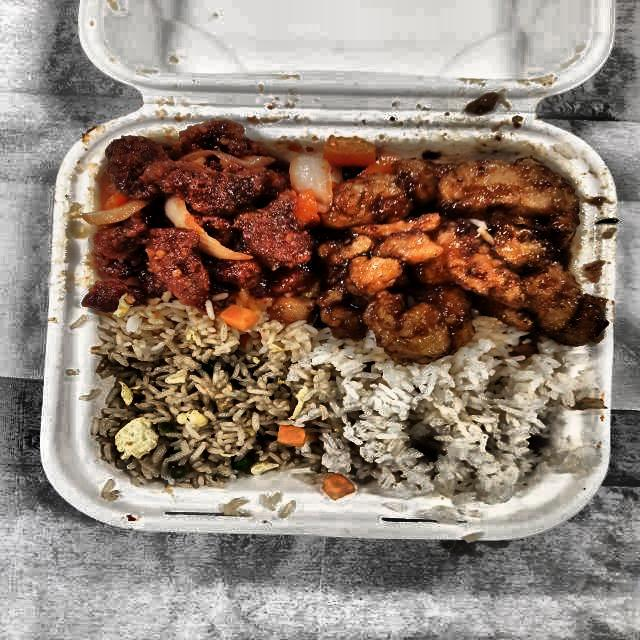Food: (290, 130, 607, 372), (70, 120, 318, 318), (96, 322, 328, 488), (322, 345, 574, 494)
